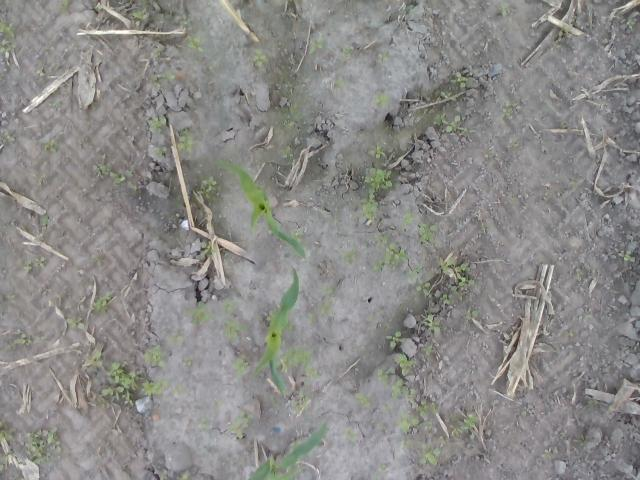Maize: (215, 160, 308, 261), (244, 264, 300, 398), (244, 422, 328, 480)
Weeds: (98, 361, 141, 406), (92, 154, 138, 190), (274, 345, 318, 378), (24, 430, 60, 464), (438, 256, 476, 286), (434, 112, 475, 136), (226, 408, 253, 440), (418, 436, 446, 466), (183, 301, 216, 326), (363, 168, 392, 194), (141, 378, 182, 396), (383, 244, 409, 270), (391, 378, 416, 404), (358, 193, 378, 225), (142, 344, 168, 368), (451, 413, 478, 436), (394, 410, 420, 433), (221, 318, 247, 340), (394, 352, 415, 377), (290, 390, 310, 416), (197, 176, 217, 200), (177, 128, 196, 153), (416, 399, 439, 418), (5, 332, 32, 348), (90, 292, 110, 313), (422, 314, 442, 334), (85, 350, 104, 370), (148, 114, 168, 133), (419, 223, 438, 243), (231, 358, 248, 378), (252, 48, 269, 68), (186, 34, 204, 52), (386, 330, 404, 348), (416, 278, 432, 298), (0, 421, 15, 442), (451, 70, 468, 88), (0, 19, 16, 38), (401, 208, 416, 228), (132, 8, 148, 26), (66, 316, 86, 330), (288, 228, 305, 244), (373, 232, 390, 248), (464, 306, 479, 324), (378, 368, 392, 387), (502, 101, 518, 117), (372, 92, 388, 108), (407, 264, 422, 281), (354, 392, 371, 407), (30, 172, 48, 186), (308, 34, 322, 52), (200, 240, 216, 255), (371, 144, 387, 159), (42, 138, 59, 152), (618, 250, 636, 263), (540, 446, 556, 460), (0, 39, 16, 53), (168, 331, 182, 346), (556, 24, 572, 37), (196, 417, 212, 430), (316, 301, 332, 314), (344, 428, 358, 442), (153, 145, 168, 158), (497, 2, 510, 16), (280, 145, 294, 158), (342, 249, 356, 262), (396, 439, 412, 450), (178, 14, 192, 26), (220, 300, 234, 312), (150, 74, 162, 88), (440, 293, 454, 305), (441, 91, 456, 102), (3, 130, 16, 142), (266, 308, 278, 321), (373, 259, 385, 271), (306, 312, 318, 324), (22, 259, 33, 272), (400, 4, 414, 14), (0, 450, 14, 460), (162, 70, 176, 80), (320, 284, 334, 294), (334, 79, 346, 90), (34, 257, 46, 268), (283, 320, 294, 332), (178, 470, 191, 480), (451, 285, 462, 296), (626, 18, 636, 30), (575, 267, 583, 282), (49, 101, 62, 110), (154, 44, 162, 58), (424, 344, 435, 354), (212, 400, 224, 409), (508, 138, 518, 148), (40, 214, 50, 224), (576, 436, 586, 446), (378, 52, 388, 62), (341, 46, 351, 56), (382, 404, 392, 414), (587, 398, 599, 406), (378, 463, 388, 472), (158, 469, 166, 480), (61, 0, 68, 12), (564, 328, 574, 336), (208, 60, 216, 70), (92, 100, 100, 110), (182, 357, 192, 365), (270, 395, 277, 406), (571, 181, 579, 190), (377, 422, 385, 430), (366, 315, 374, 323), (425, 422, 433, 430), (285, 81, 293, 88), (96, 4, 104, 10), (520, 410, 528, 416), (585, 314, 593, 319), (372, 475, 378, 480)
